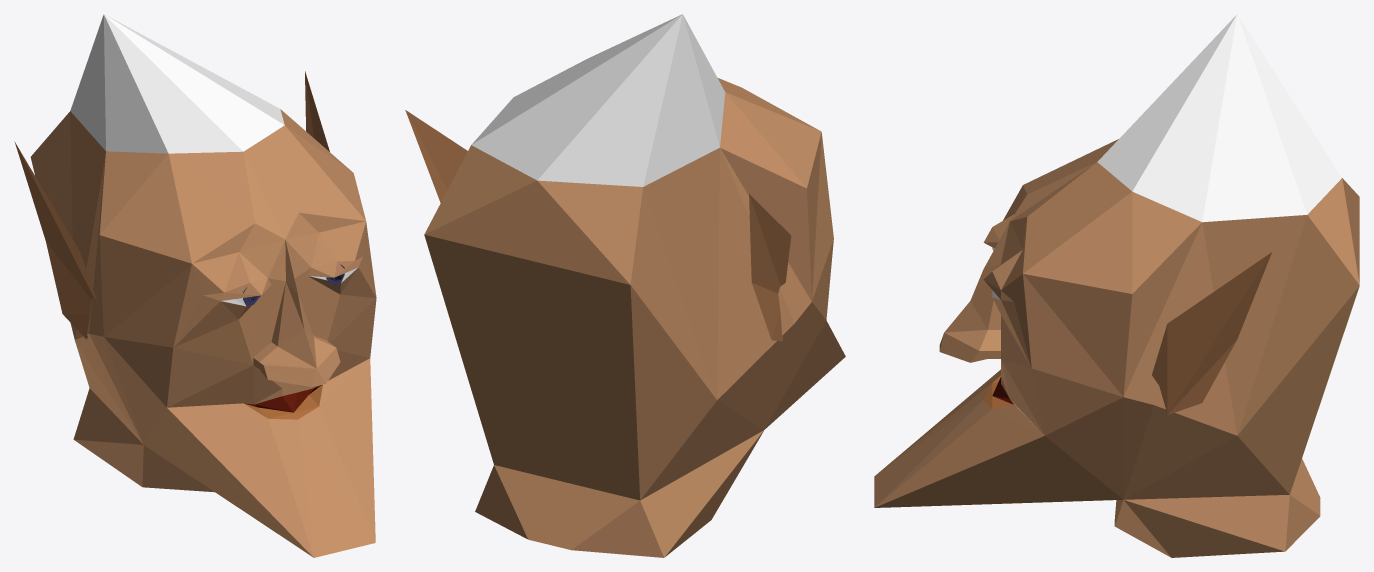
The model's file is model_17_npc_head.obj.
3 views of the same model, side by side, from view 1: azimuth 30°, elevation 25°; view 2: azimuth 150°, elevation 25°; view 3: azimuth 270°, elevation 25° (orthographic). The views are drawn at different scales.
Visible parts, largest first — view 1: 17; view 2: 17; view 3: 17.
Part boxes in pixels (bbox=[...]): 17: bbox=[14, 14, 376, 557]; 17: bbox=[405, 14, 845, 557]; 17: bbox=[874, 14, 1359, 557].
Size of the model in its own units: 80 by 119 by 111.
